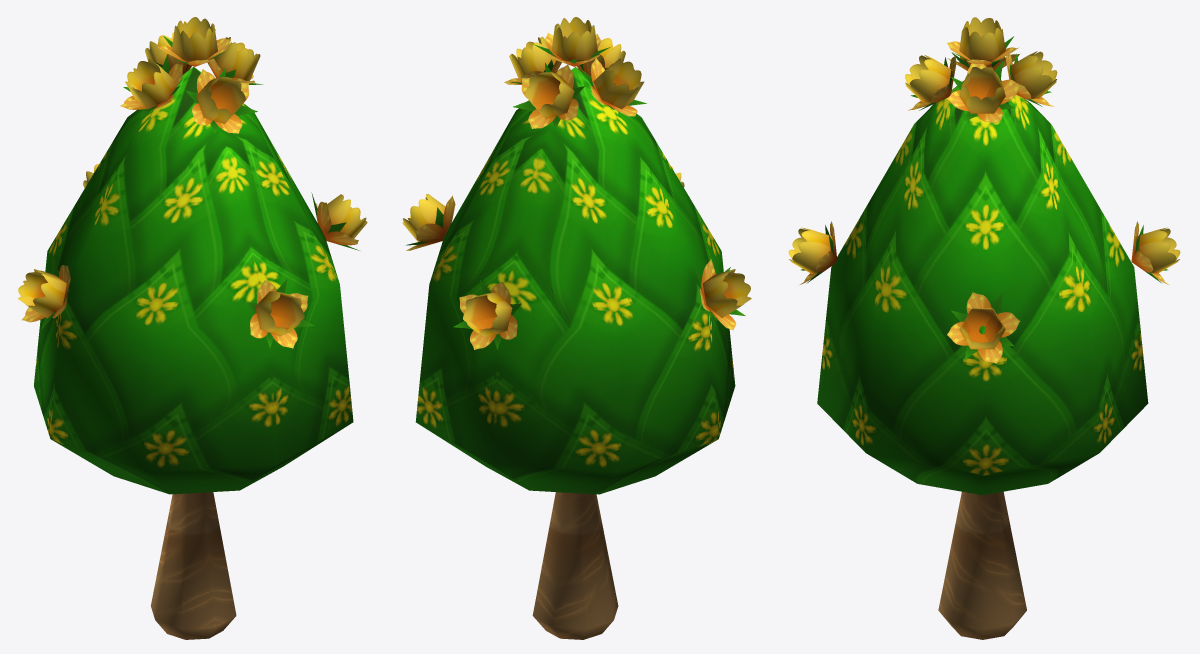
File: Tree_03.FBX
The picture shows the model from 3 angles, left to right: view 1: azimuth 30°, elevation 25°; view 2: azimuth 150°, elevation 25°; view 3: azimuth 270°, elevation 25°; orthographic projection.
Visible parts, largest first — view 1: Tree_03; view 2: Tree_03; view 3: Tree_03.
Part boxes in pixels (box(x1,y1,x2,y2)): Tree_03: box(18, 17, 367, 639); Tree_03: box(402, 17, 751, 639); Tree_03: box(788, 17, 1180, 639).
Size of the model in its own units: 2.05 by 3.42 by 2.06.
